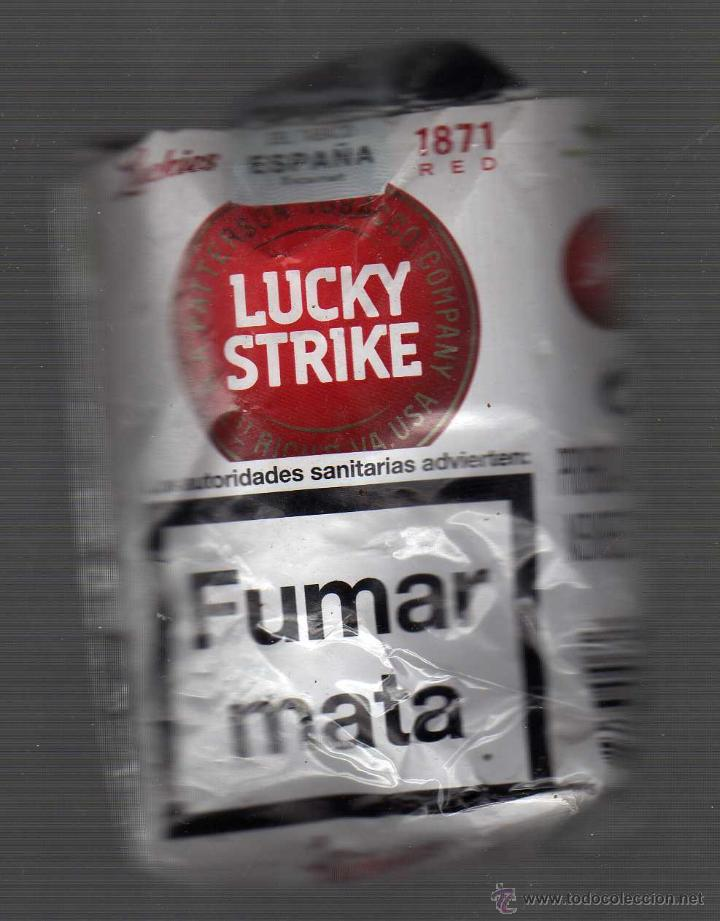lucky_strike_red: (122, 118, 558, 815)
